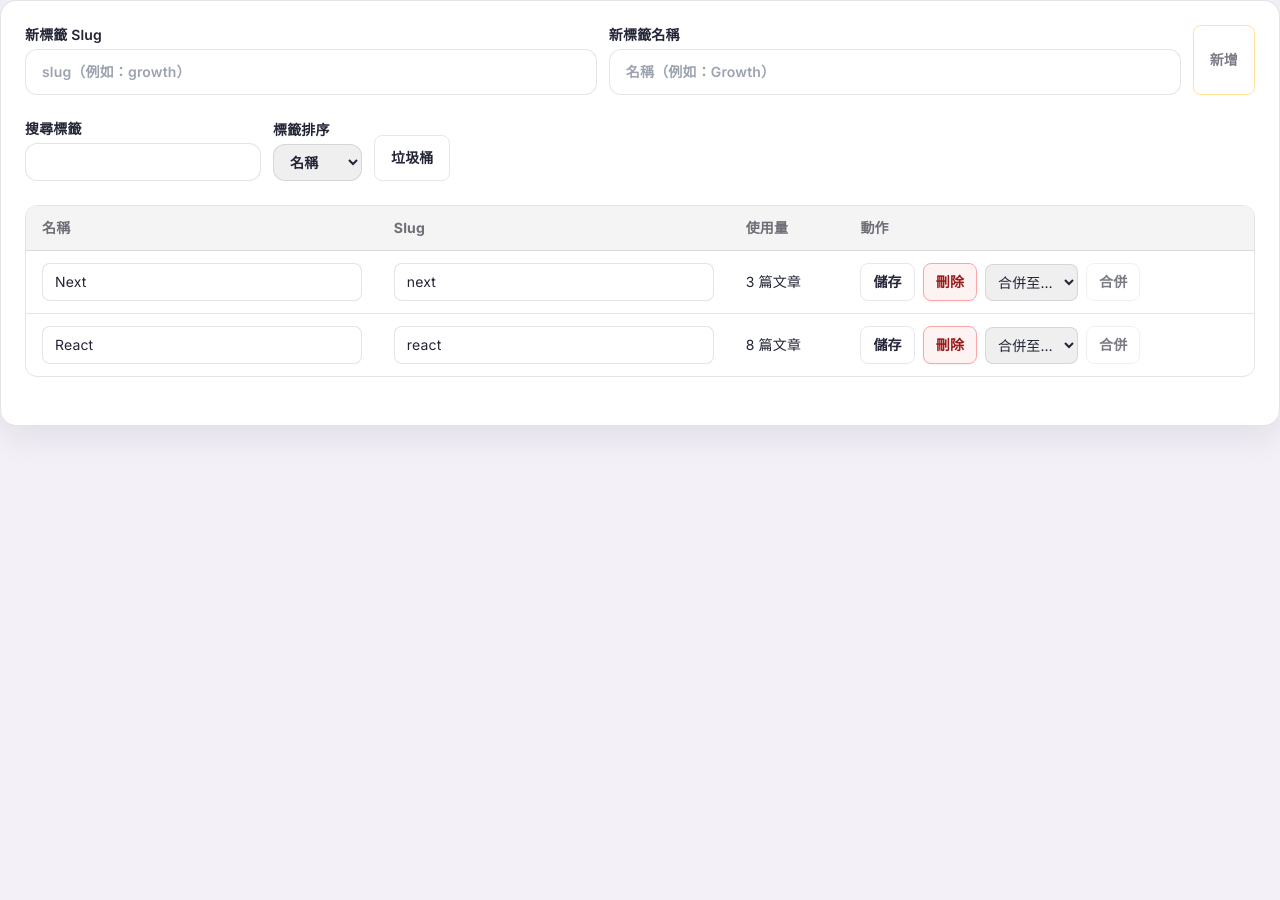
Test: TagAdminClient › deletes a tag
What coordinates should you click on to do the following:
click the 2nd button "刪除"
I would click on:
 (950, 345)
Its box is [923,326,977,364].
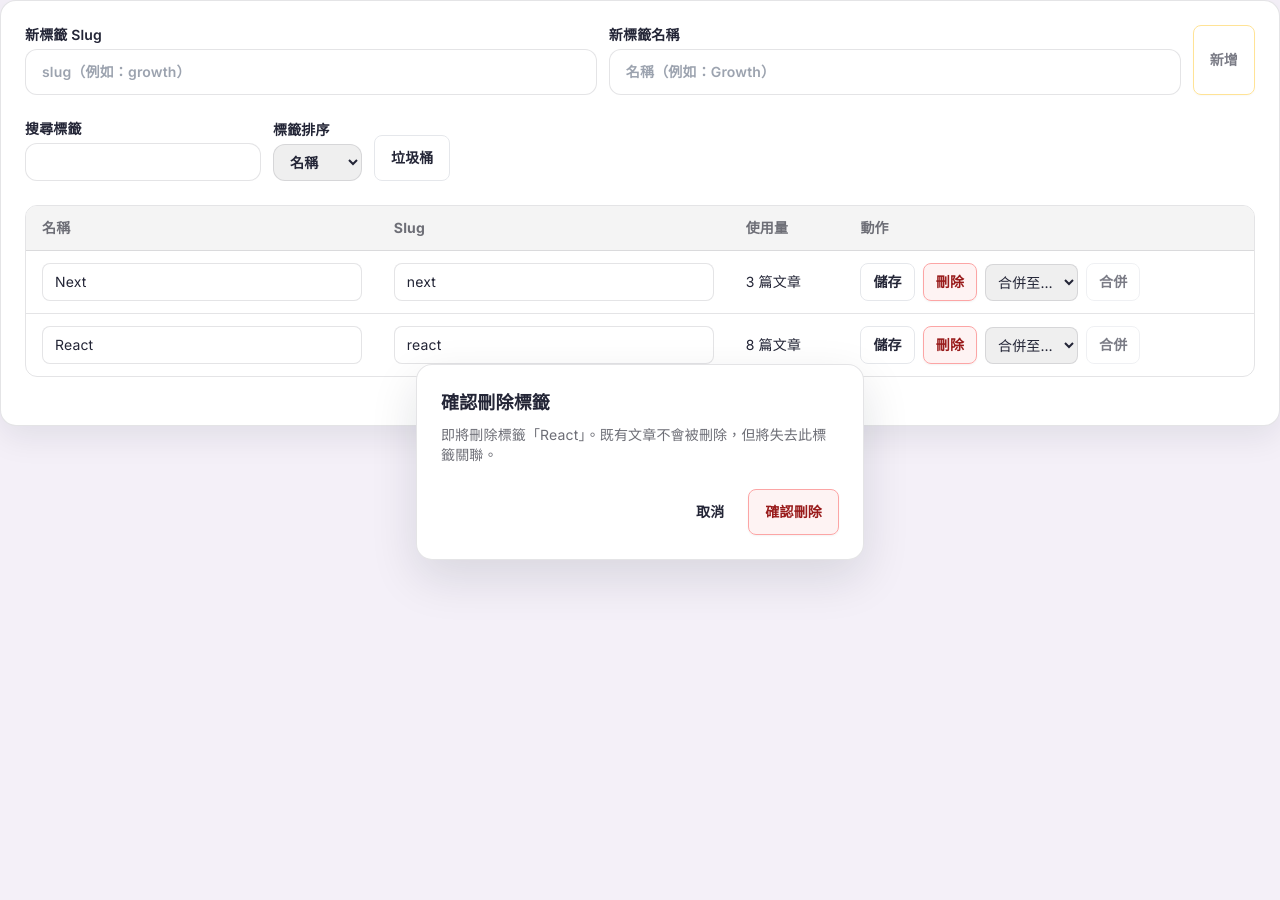
Expected: the dialog "確認刪除標籤" is shown, [416,364,864,560]
Expected: the text "即將刪除標籤「React」。既有文章不會被刪除，但將失去此標籤關聯。" is shown, [441,425,839,465]
What coordinates should you click on to do the following:
click the button "確認刪除"
I would click on:
 (794, 512)
Its box is [748,489,839,535].
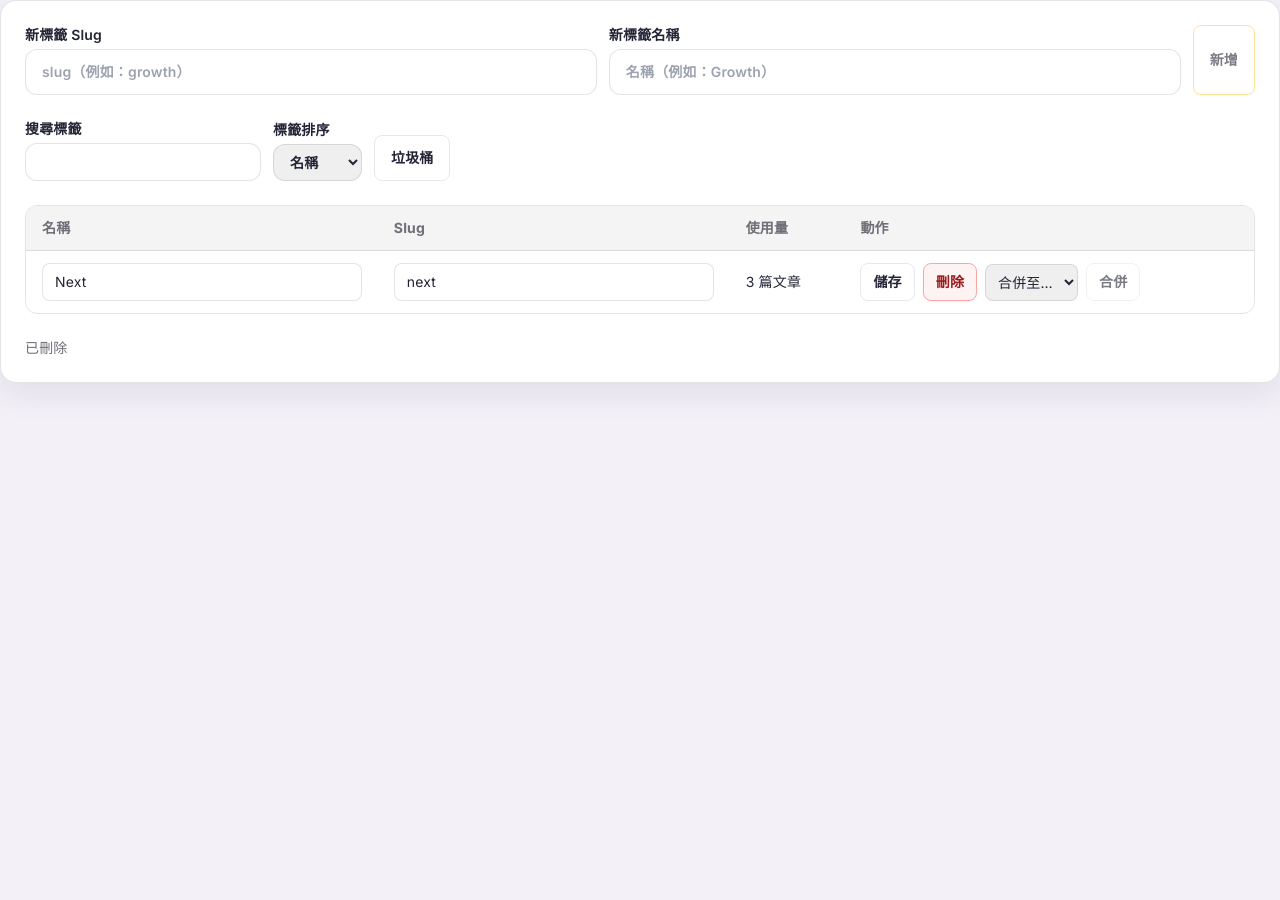
Expected: the text showing "React" is gone
